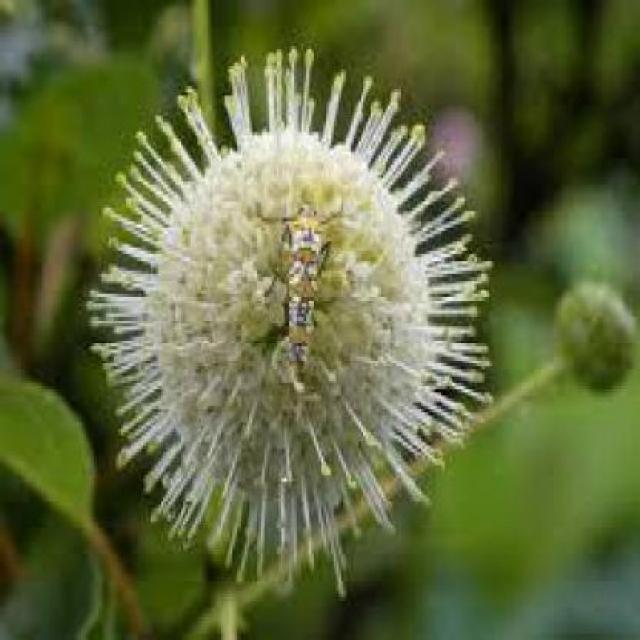flower: (93, 48, 490, 595)
